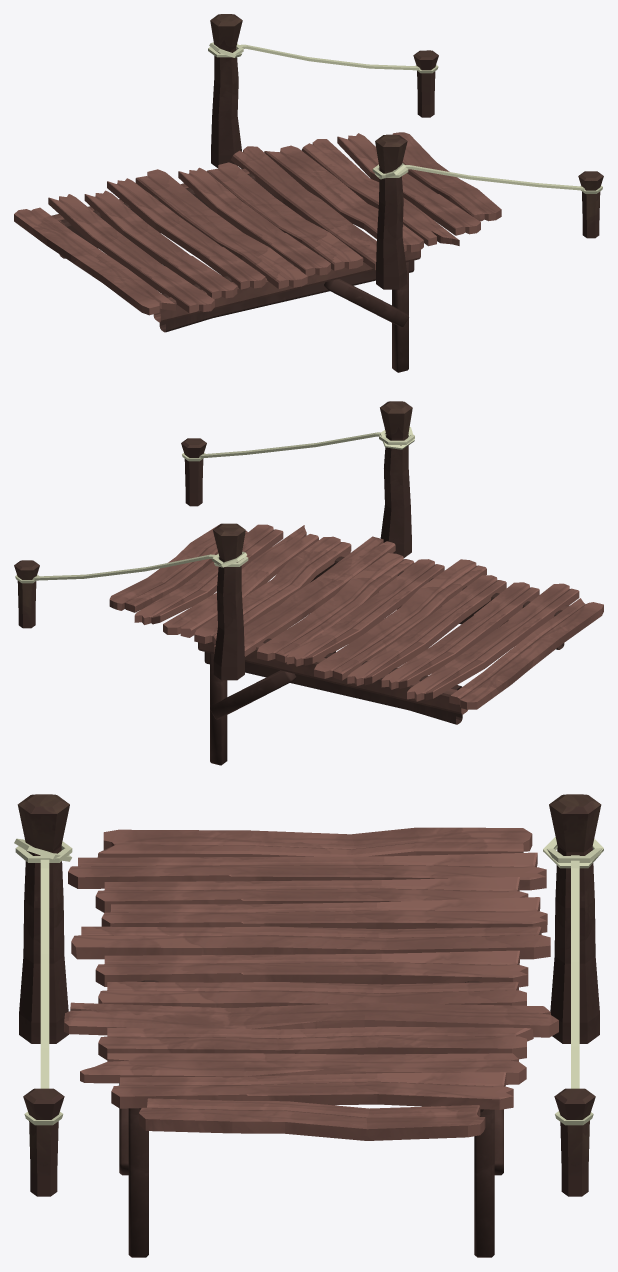
The model's file is bridgeBrokenPiece2.fbx.
The picture shows the model from 3 angles, top to bottom: view 1: azimuth 30°, elevation 25°; view 2: azimuth 150°, elevation 25°; view 3: azimuth 270°, elevation 25°; orthographic projection. The views are drawn at different scales.
Parts seen in each view (by area): view 1: bridge2; view 2: bridge2; view 3: bridge2.
Boxes of the visible parts, left/top/right/bottom form: bridge2: left=14, top=14, right=603, bottom=372; bridge2: left=14, top=401, right=603, bottom=765; bridge2: left=14, top=794, right=603, bottom=1257.
Size of the model in its own units: 1743 by 997 by 1261.
